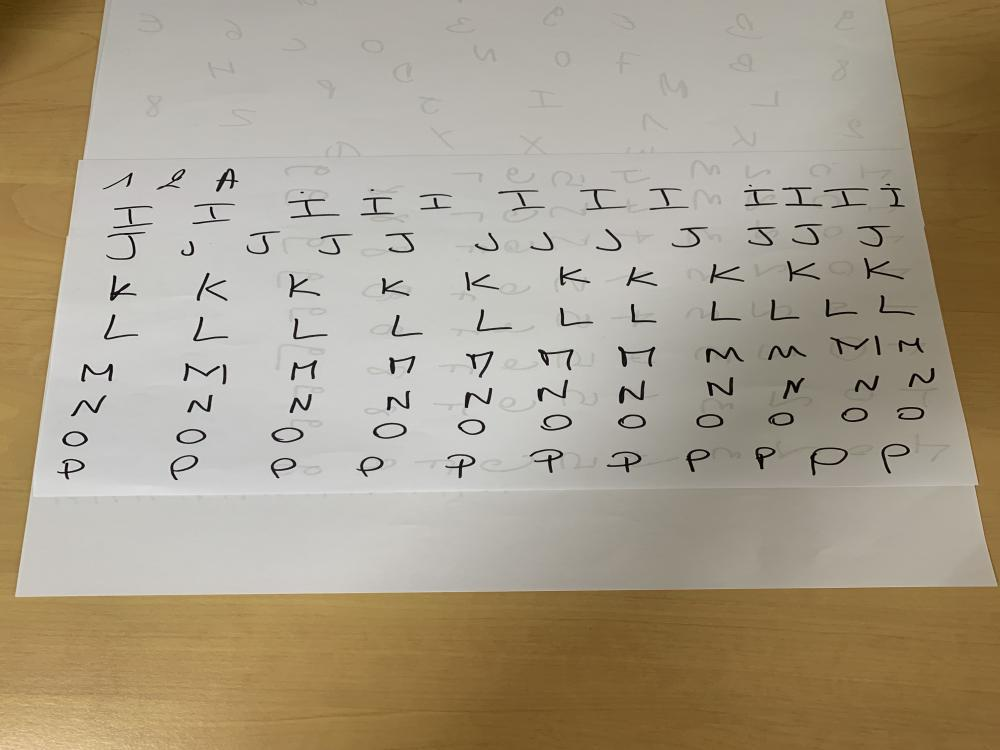0: (261, 425, 312, 445), (175, 426, 213, 450), (370, 420, 409, 442), (536, 412, 576, 433), (453, 417, 490, 438), (55, 428, 92, 448), (892, 404, 929, 422), (692, 412, 728, 430), (613, 412, 648, 430), (838, 406, 872, 424), (768, 410, 798, 428)
1: (95, 171, 138, 192)
2: (154, 166, 190, 192)
A: (213, 166, 242, 194)
I: (286, 197, 344, 222), (820, 184, 874, 210), (577, 187, 630, 212), (645, 184, 692, 212), (495, 189, 547, 214), (187, 202, 240, 226), (110, 203, 158, 229), (778, 186, 826, 208), (356, 194, 398, 218), (414, 192, 458, 212), (879, 182, 908, 211), (740, 187, 780, 207)
J: (98, 230, 150, 262), (241, 228, 285, 256), (665, 225, 713, 250), (380, 230, 421, 256), (852, 224, 896, 248), (316, 232, 356, 258), (592, 228, 630, 254), (742, 224, 778, 251), (789, 222, 824, 247), (527, 230, 559, 254), (470, 231, 501, 252), (175, 238, 201, 260)
K: (858, 256, 910, 283), (193, 270, 232, 302), (781, 256, 825, 284), (461, 266, 505, 294), (283, 271, 325, 299), (106, 272, 141, 304), (708, 262, 749, 287), (621, 265, 661, 287), (557, 264, 595, 286), (378, 276, 413, 298)
L: (96, 312, 148, 342), (470, 306, 518, 334), (875, 293, 921, 318), (191, 316, 232, 344), (287, 315, 330, 341), (702, 300, 747, 322), (820, 295, 860, 319), (766, 298, 804, 323), (556, 306, 597, 328), (627, 302, 665, 325), (390, 314, 426, 338)
M: (826, 332, 885, 359), (179, 359, 232, 388), (609, 342, 659, 370), (466, 347, 501, 380), (534, 346, 578, 372), (284, 357, 325, 384), (76, 362, 122, 385), (380, 351, 419, 378), (702, 345, 750, 366), (892, 337, 932, 357), (764, 344, 811, 361)
N: (529, 376, 576, 405), (459, 384, 500, 412), (66, 394, 110, 420), (901, 364, 941, 391), (614, 378, 652, 406), (700, 374, 741, 399), (846, 373, 886, 394), (780, 374, 810, 402), (382, 388, 416, 412), (184, 392, 219, 415), (286, 392, 318, 416)
P: (872, 443, 921, 476), (808, 445, 850, 478), (526, 446, 570, 475), (604, 447, 646, 476), (442, 452, 480, 481), (676, 445, 712, 475), (53, 456, 91, 484), (166, 454, 202, 482), (750, 444, 782, 474), (351, 454, 387, 480), (265, 457, 299, 481)
